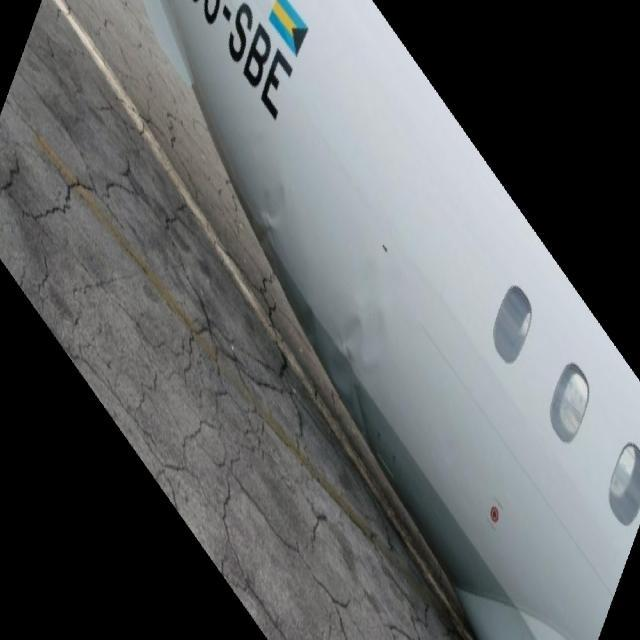dent: (255, 168, 392, 404)
